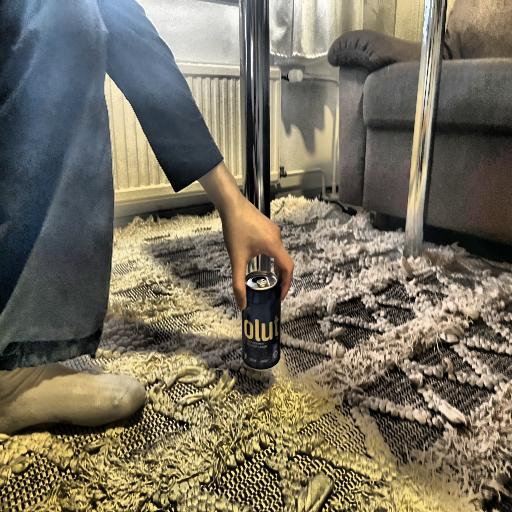koti: (242, 267, 283, 368)
